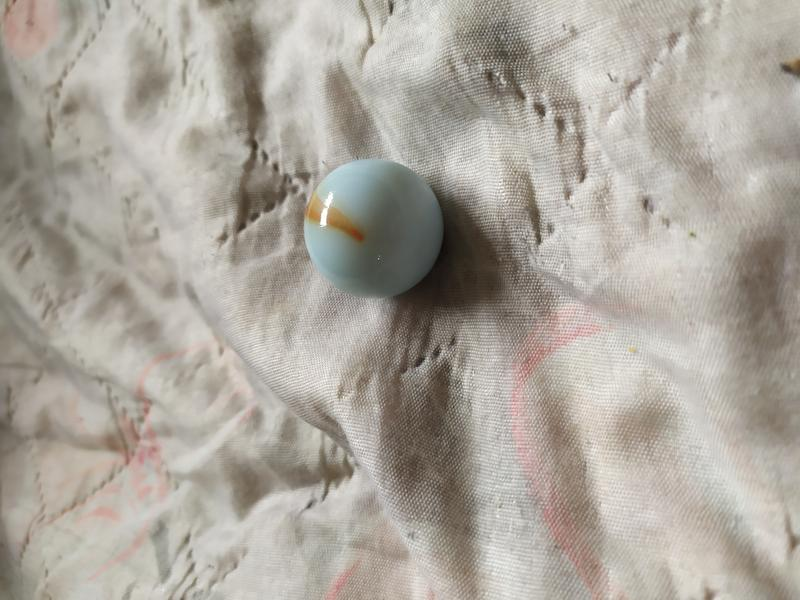Warning: (301, 156, 449, 302)
